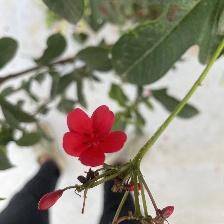jatropha: (65, 105, 128, 168)
